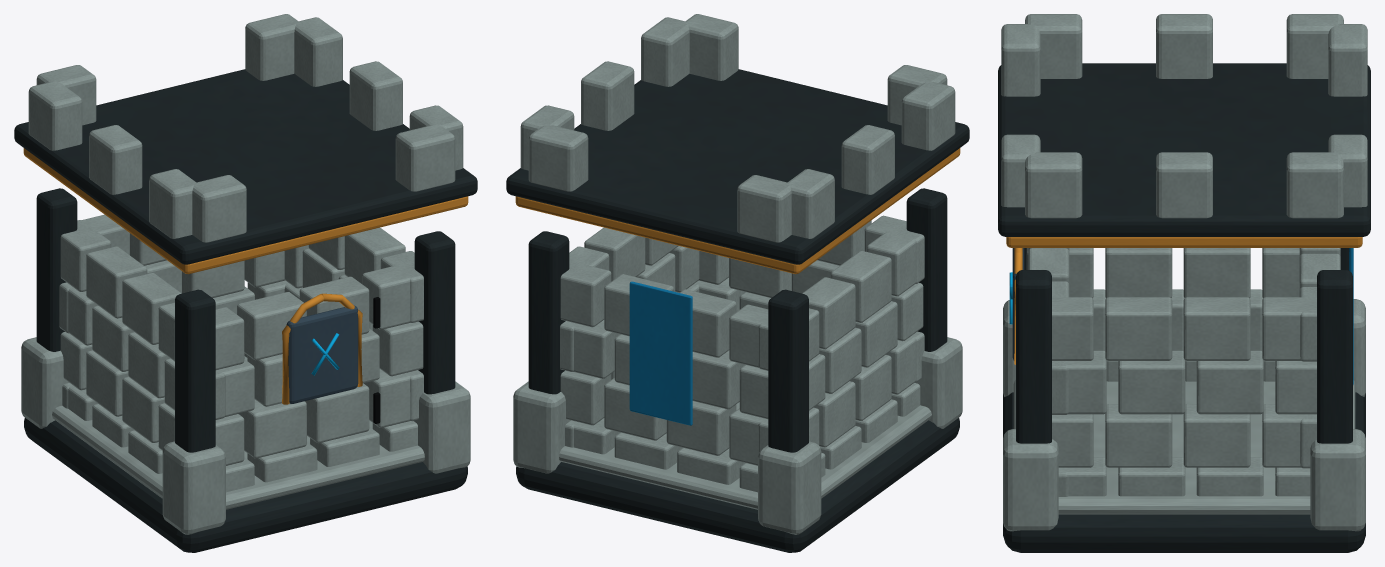
Rendered from SM_tower_guard_LOD1.fbx.
The picture shows the model from 3 angles, left to right: view 1: azimuth 30°, elevation 25°; view 2: azimuth 150°, elevation 25°; view 3: azimuth 270°, elevation 25°; orthographic projection. The views are drawn at different scales.
Parts seen in each view (by area): view 1: SM_tower_guard_LOD1; view 2: SM_tower_guard_LOD1; view 3: SM_tower_guard_LOD1.
Boxes of the visible parts, box(x1,y1,x2,y2) form: SM_tower_guard_LOD1: box(14, 14, 477, 552); SM_tower_guard_LOD1: box(506, 14, 969, 552); SM_tower_guard_LOD1: box(998, 14, 1370, 552).
Bounding box in the file's own units: 2.28 × 2.28 × 2.65.
